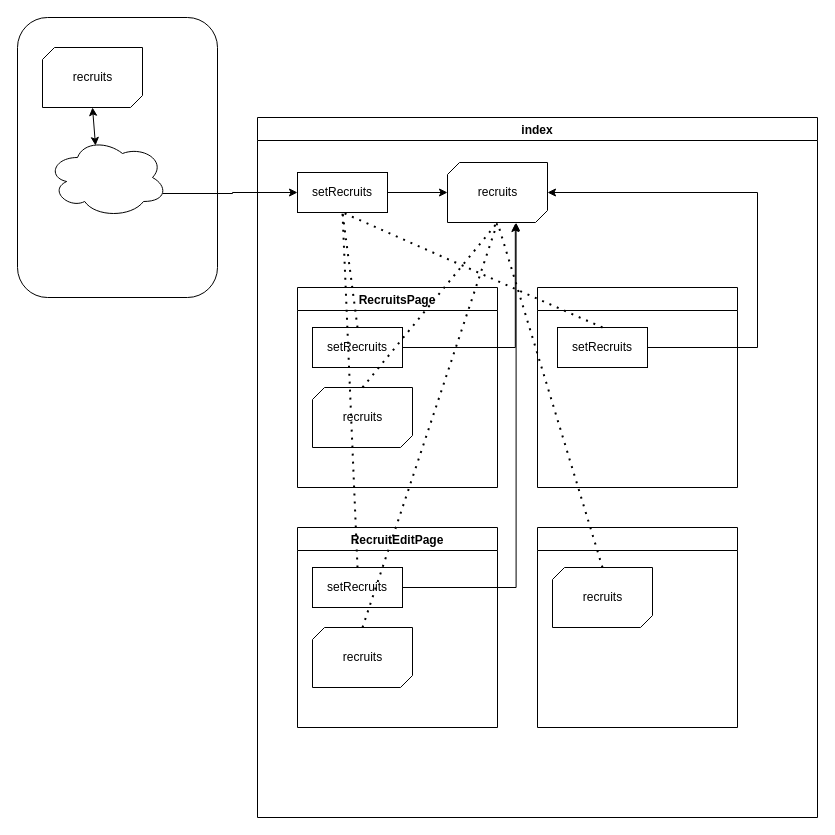
Image size: 835x835. Some labels were removed from this diagram. Here are the shapes that lost their labels. From the top down, the box of each, then its label:
(46, 136, 168, 218): api
(536, 286, 738, 488): RecruitCreatePage
(536, 526, 738, 728): RecruitDetailPage
